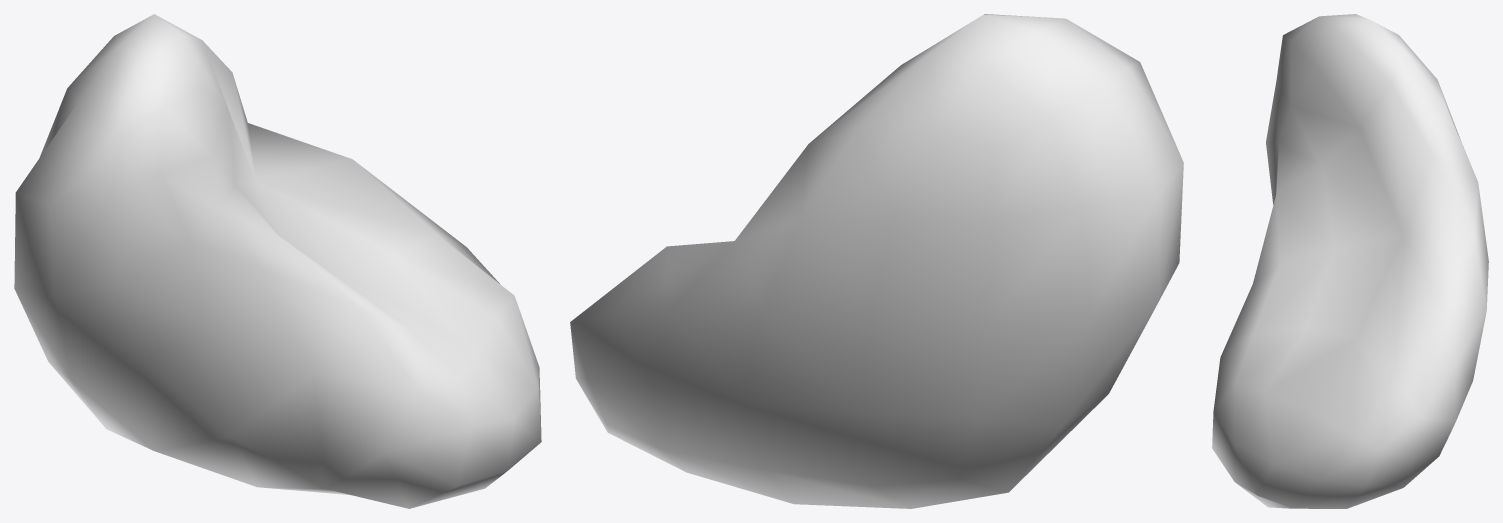
File: Rock_01.fbx
The picture shows the model from 3 angles, left to right: view 1: azimuth 30°, elevation 25°; view 2: azimuth 150°, elevation 25°; view 3: azimuth 270°, elevation 25°; orthographic projection. The views are drawn at different scales.
Visible parts, largest first — view 1: Rock_01; view 2: Rock_01; view 3: Rock_01.
Boxes of the visible parts, bbox=[...] form: Rock_01: bbox=[14, 14, 541, 508]; Rock_01: bbox=[570, 14, 1183, 508]; Rock_01: bbox=[1212, 14, 1488, 508].
Bounding box in the file's own units: 45.93 × 42.42 × 27.25.
